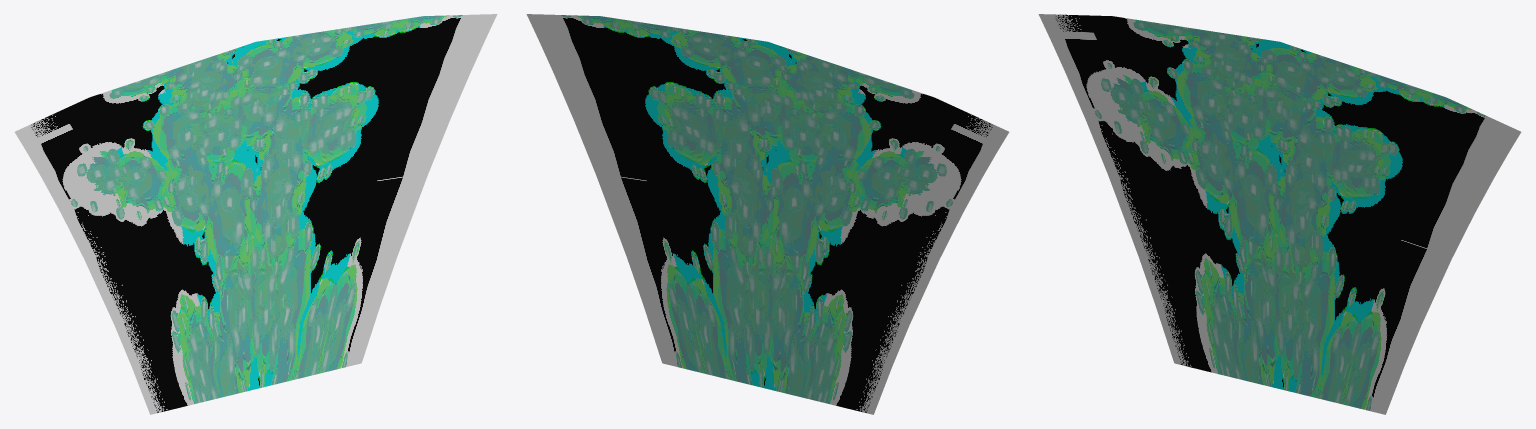
Rendered from Bubbles Current Taper.FBX.
The picture shows the model from 3 angles, left to right: view 1: azimuth 30°, elevation 25°; view 2: azimuth 150°, elevation 25°; view 3: azimuth 330°, elevation 25°; orthographic projection.
Visible parts, largest first — view 1: Bubbles Current Taper; view 2: Bubbles Current Taper; view 3: Bubbles Current Taper.
Boxes of the visible parts, x1,y1,x2,y2 form: Bubbles Current Taper: [14, 14, 497, 414]; Bubbles Current Taper: [526, 14, 1009, 414]; Bubbles Current Taper: [1038, 14, 1521, 414].
Size of the model in its own units: 332 by 4.5e-06 by 228.
